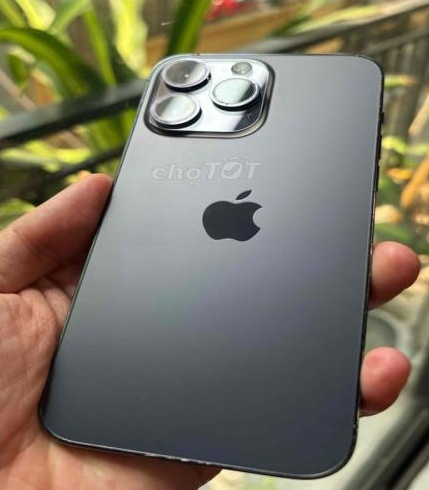scratch: (132, 440, 234, 481)
